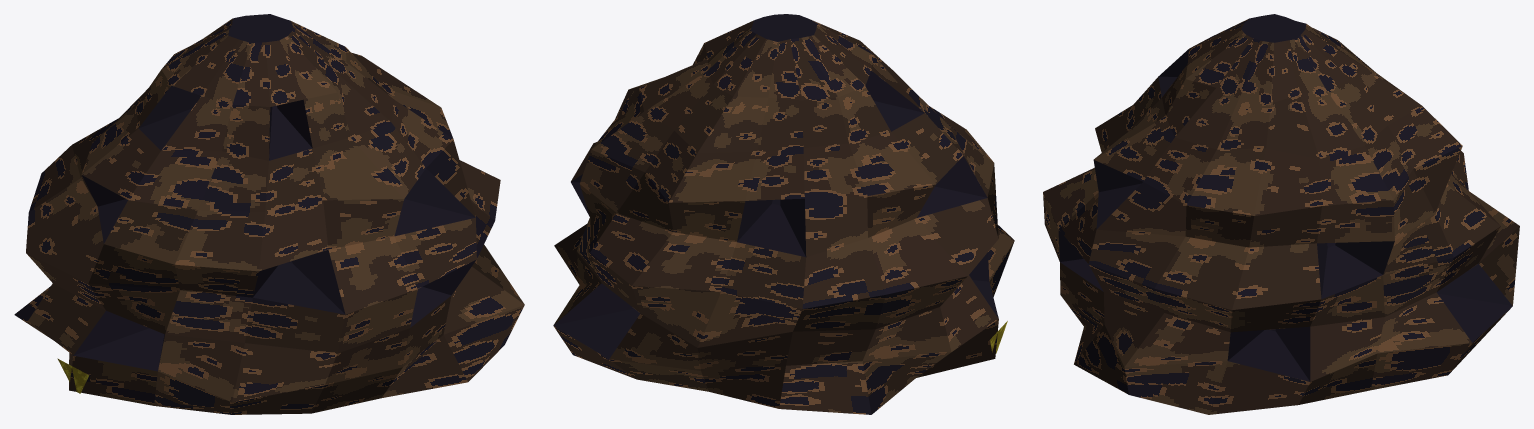
File: agujaPorosaChica.gltf
The picture shows the model from 3 angles, left to right: view 1: azimuth 30°, elevation 25°; view 2: azimuth 150°, elevation 25°; view 3: azimuth 270°, elevation 25°; orthographic projection. The views are drawn at different scales.
Parts seen in each view (by area): view 1: POR-01_Penasco_poroso.174-col; view 2: POR-01_Penasco_poroso.174-col; view 3: POR-01_Penasco_poroso.174-col.
Boxes of the visible parts, <box> form: POR-01_Penasco_poroso.174-col: <box>14,14,524,414</box>; POR-01_Penasco_poroso.174-col: <box>553,14,1014,414</box>; POR-01_Penasco_poroso.174-col: <box>1043,14,1519,414</box>.
Size of the model in its own units: 5.32 by 3.57 by 5.35.
1 material, 1 textured.
